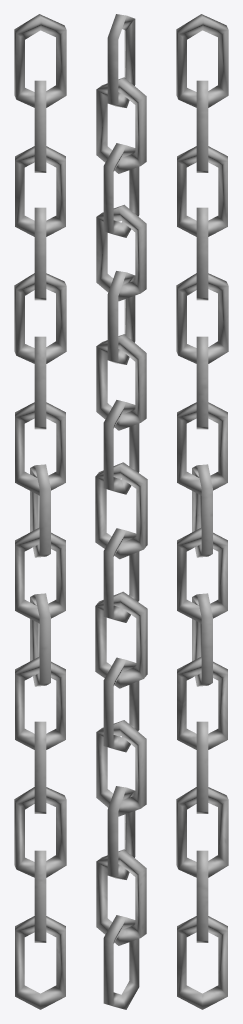
Rendered from SM_Fluorescent_Light_Chain_Large_01a.fbx.
3 views of the same model, side by side, from view 1: azimuth 90°, elevation 25°; view 2: azimuth 150°, elevation 25°; view 3: azimuth 270°, elevation 25° (orthographic).
Visible parts, largest first — view 1: SM_Fluorescent_Light_Chain_Large_01a_LOD0; view 2: SM_Fluorescent_Light_Chain_Large_01a_LOD0; view 3: SM_Fluorescent_Light_Chain_Large_01a_LOD0.
Part boxes in pixels (box(x1,y1,x2,y2)): SM_Fluorescent_Light_Chain_Large_01a_LOD0: box(14, 14, 66, 1009); SM_Fluorescent_Light_Chain_Large_01a_LOD0: box(95, 14, 147, 1009); SM_Fluorescent_Light_Chain_Large_01a_LOD0: box(176, 14, 228, 1009).
Bounding box in the file's own units: 0.9423 × 0.9423 × 19.61.
1 material, 1 textured.
